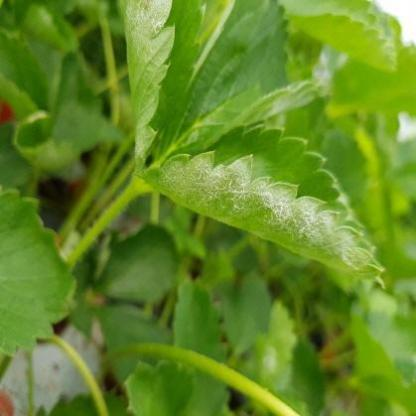Strawberry_Powdery_Mildew_Leaf: (136, 119, 387, 291), (151, 0, 325, 164), (120, 0, 207, 172)
